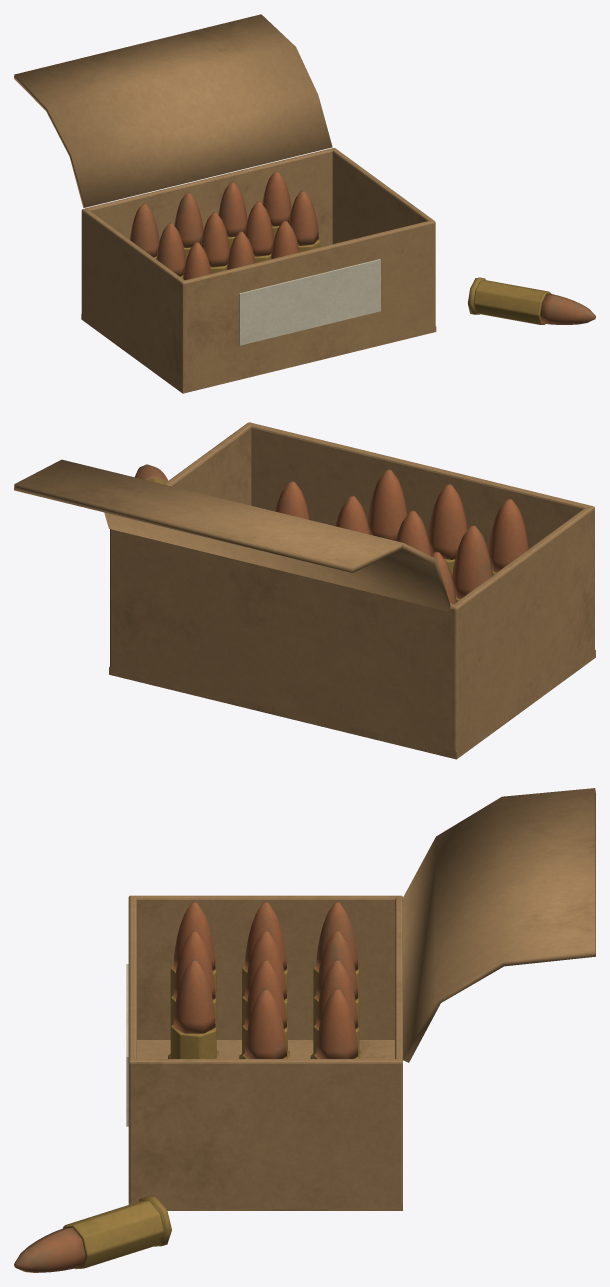
File: prop_ammo_light_01.gltf
The picture shows the model from 3 angles, top to bottom: view 1: azimuth 30°, elevation 25°; view 2: azimuth 150°, elevation 25°; view 3: azimuth 270°, elevation 25°; orthographic projection. The views are drawn at different scales.
Visible parts, largest first — view 1: prop_ammo_light_01_item_atlas_01; view 2: prop_ammo_light_01_item_atlas_01; view 3: prop_ammo_light_01_item_atlas_01.
Part boxes in pixels (bbox=[...]): prop_ammo_light_01_item_atlas_01: bbox=[14, 14, 595, 393]; prop_ammo_light_01_item_atlas_01: bbox=[14, 422, 595, 759]; prop_ammo_light_01_item_atlas_01: bbox=[14, 788, 595, 1272].
Size of the model in its own units: 0.1056 by 0.0524 by 0.106.
Materials: 1 (1 with a texture image).
